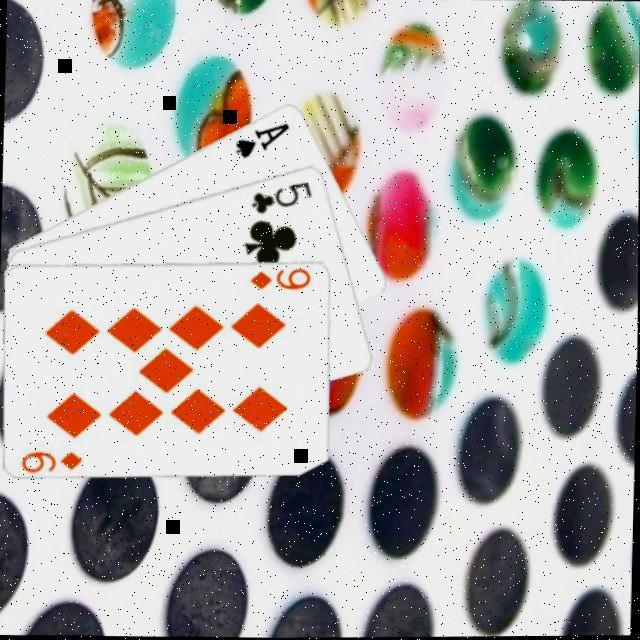5C: (248, 177, 315, 216)
9D: (19, 445, 87, 472), (249, 265, 315, 292)
AS: (232, 117, 294, 160)
